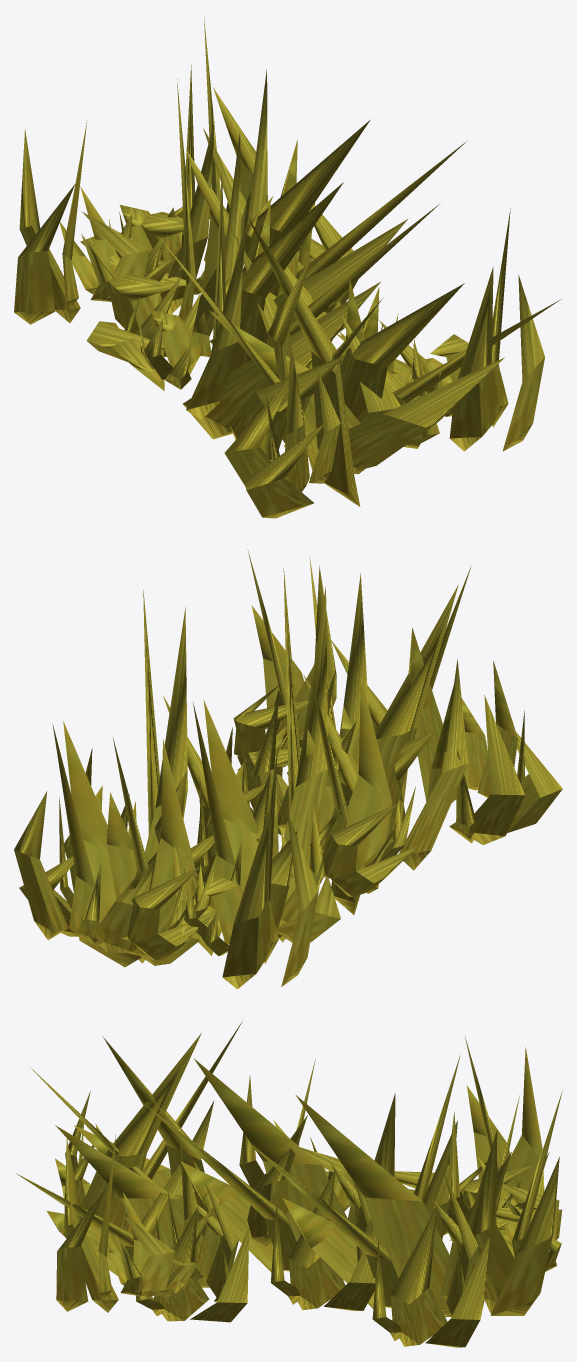
The model's file is grass_mitame_grass.fbx.
3 renders of one model, top to bottom at view 1: azimuth 30°, elevation 25°; view 2: azimuth 150°, elevation 25°; view 3: azimuth 270°, elevation 25°, orthographic. The views are drawn at different scales.
Parts seen in each view (by area): view 1: group1_pCylinder34, group1_pCylinder38, group1_pCylinder33, group1_pCylinder30, group1_pCylinder39, group1_pCylinder29, group1_pCylinder36, group1_pCylinder31, group1_pCylinder32, group1_pCylinder37, group1_pCylinder35; view 2: group1_pCylinder35, group1_pCylinder34, group1_pCylinder33, group1_pCylinder31, group1_pCylinder30, group1_pCylinder29, group1_pCylinder37, group1_pCylinder32, group1_pCylinder36, group1_pCylinder39, group1_pCylinder38; view 3: group1_pCylinder36, group1_pCylinder30, group1_pCylinder38, group1_pCylinder39, group1_pCylinder35, group1_pCylinder34, group1_pCylinder32, group1_pCylinder33, group1_pCylinder31, group1_pCylinder29, group1_pCylinder37.
Part boxes in pixels (bbox=[...]): group1_pCylinder34: bbox=[157, 218, 365, 518]; group1_pCylinder38: bbox=[337, 283, 561, 471]; group1_pCylinder33: bbox=[14, 120, 167, 324]; group1_pCylinder30: bbox=[183, 182, 439, 439]; group1_pCylinder39: bbox=[409, 208, 544, 451]; group1_pCylinder29: bbox=[86, 79, 240, 374]; group1_pCylinder36: bbox=[209, 119, 467, 344]; group1_pCylinder31: bbox=[111, 171, 277, 419]; group1_pCylinder32: bbox=[229, 256, 418, 460]; group1_pCylinder37: bbox=[80, 64, 246, 314]; group1_pCylinder35: bbox=[141, 17, 267, 294]; group1_pCylinder35: bbox=[14, 721, 200, 967]; group1_pCylinder34: bbox=[393, 628, 562, 845]; group1_pCylinder33: bbox=[173, 746, 318, 989]; group1_pCylinder31: bbox=[306, 674, 417, 897]; group1_pCylinder30: bbox=[190, 568, 359, 942]; group1_pCylinder29: bbox=[154, 700, 340, 942]; group1_pCylinder37: bbox=[107, 738, 218, 960]; group1_pCylinder32: bbox=[287, 566, 471, 870]; group1_pCylinder36: bbox=[19, 590, 215, 963]; group1_pCylinder39: bbox=[233, 549, 336, 777]; group1_pCylinder38: bbox=[238, 556, 387, 834]; group1_pCylinder36: bbox=[248, 1095, 489, 1347]; group1_pCylinder30: bbox=[146, 1058, 377, 1311]; group1_pCylinder38: bbox=[16, 1125, 249, 1322]; group1_pCylinder39: bbox=[56, 1134, 197, 1312]; group1_pCylinder35: bbox=[449, 1090, 562, 1315]; group1_pCylinder34: bbox=[55, 1021, 242, 1253]; group1_pCylinder32: bbox=[29, 1037, 219, 1280]; group1_pCylinder33: bbox=[459, 1035, 549, 1229]; group1_pCylinder31: bbox=[239, 1059, 356, 1246]; group1_pCylinder29: bbox=[372, 1054, 460, 1239]; group1_pCylinder37: bbox=[448, 1095, 562, 1267].
Bounding box in the file's own units: 65.71 × 53.93 × 109.
